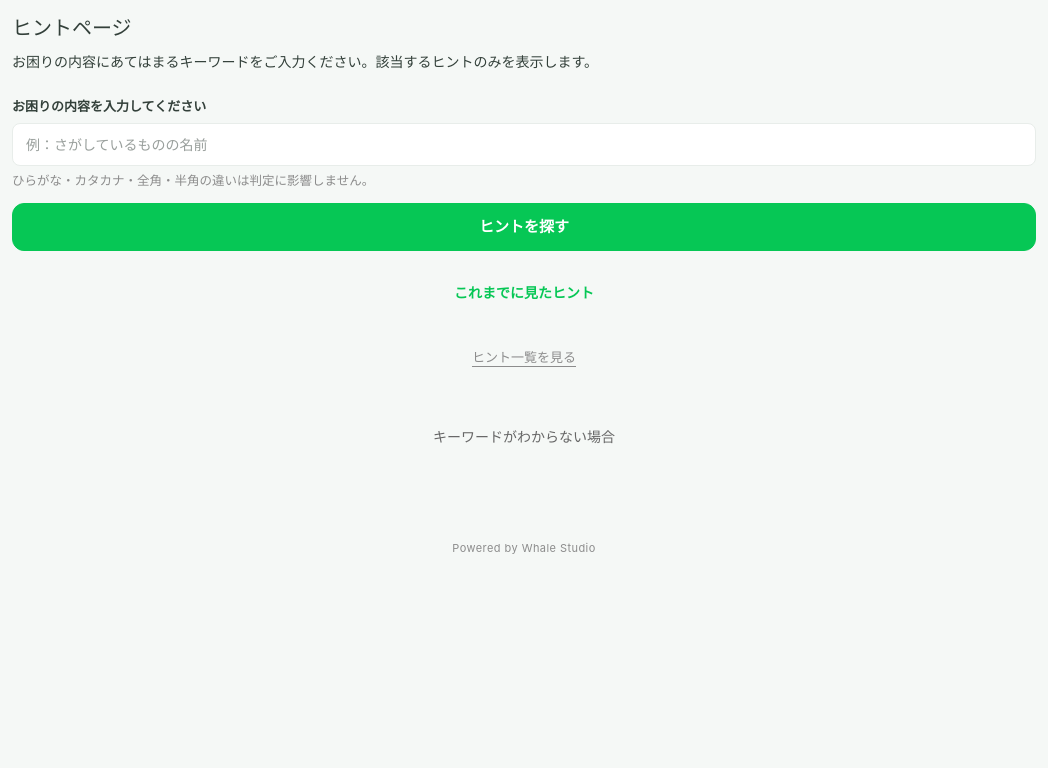
Test: 0 件 › 空入力ではエラー文言を出し、ヒントは一切出さない
The width and height of the screenshot is (1048, 768).
Click the button "ヒントを探す".
click(524, 227)  # box [12,203,1036,251]
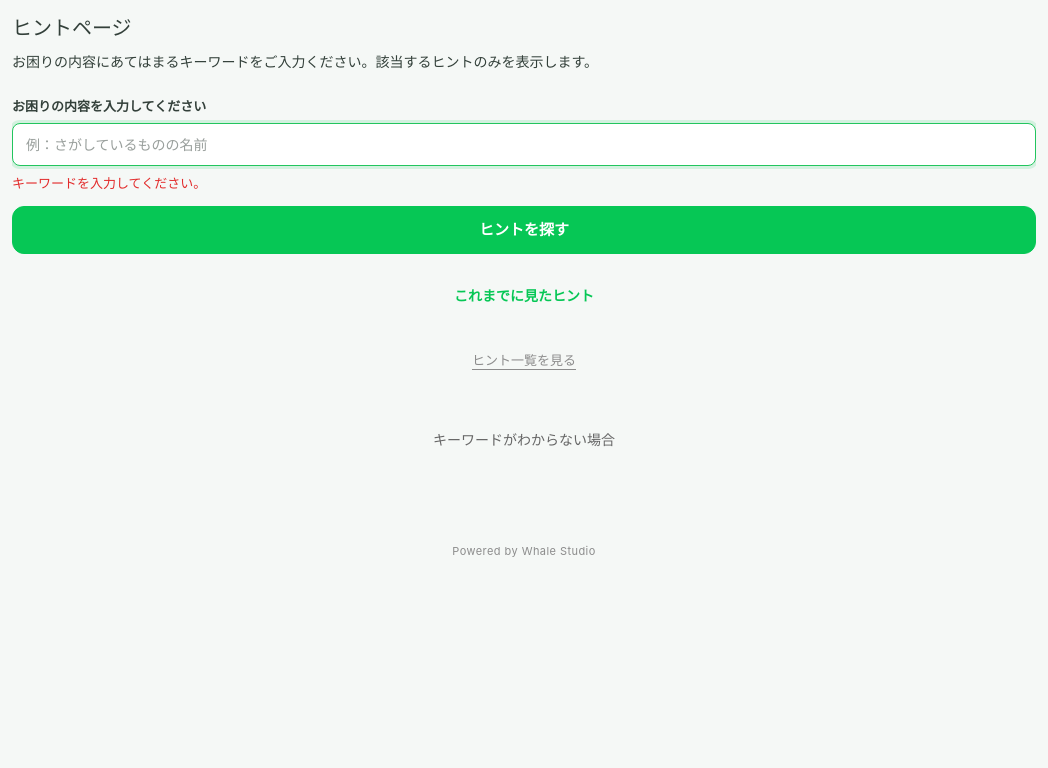
expect the message reads "キーワードを入力してください。": met, box [12,175,206,191]
